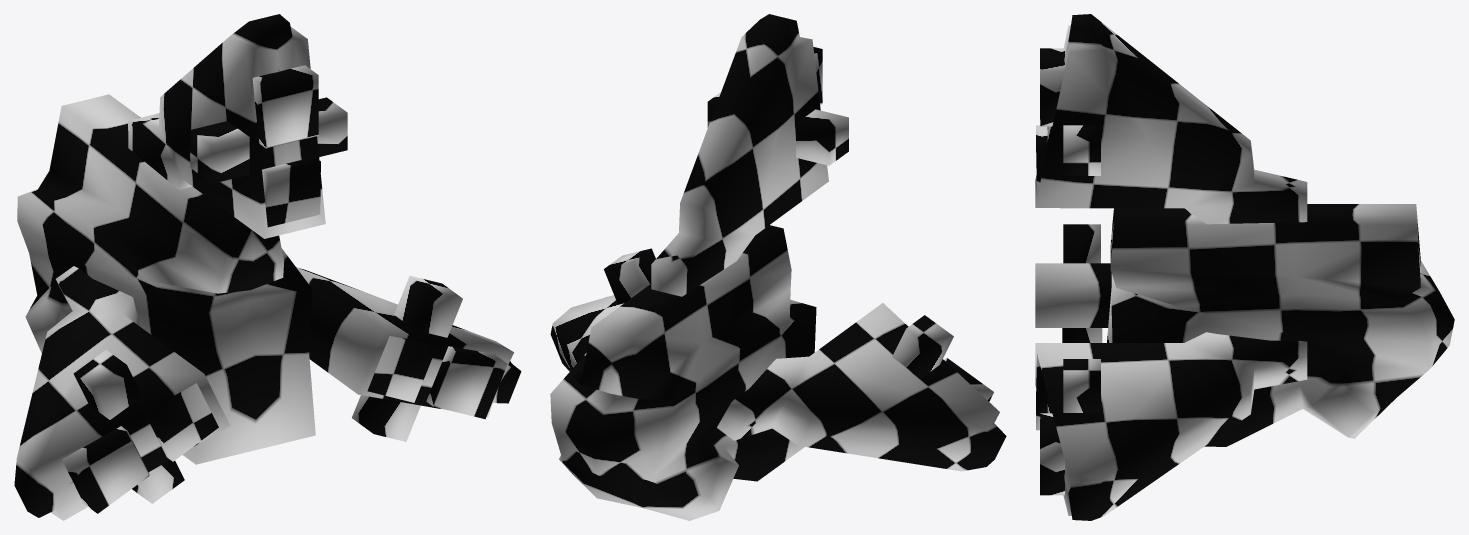
Rendered from drone_phantom.obj.
3 renders of one model, left to right at view 1: azimuth 30°, elevation 25°; view 2: azimuth 150°, elevation 25°; view 3: azimuth 270°, elevation 25°, orthographic. The views are drawn at different scales.
Parts seen in each view (by area): view 1: drone_lowpoly; view 2: drone_lowpoly; view 3: drone_lowpoly.
Boxes of the visible parts, bbox=[...] form: drone_lowpoly: bbox=[14, 14, 521, 520]; drone_lowpoly: bbox=[550, 14, 1006, 520]; drone_lowpoly: bbox=[1035, 14, 1454, 520].
Size of the model in its own units: 34.58 by 29.43 by 27.78.
Materials: 1 (1 with a texture image).
